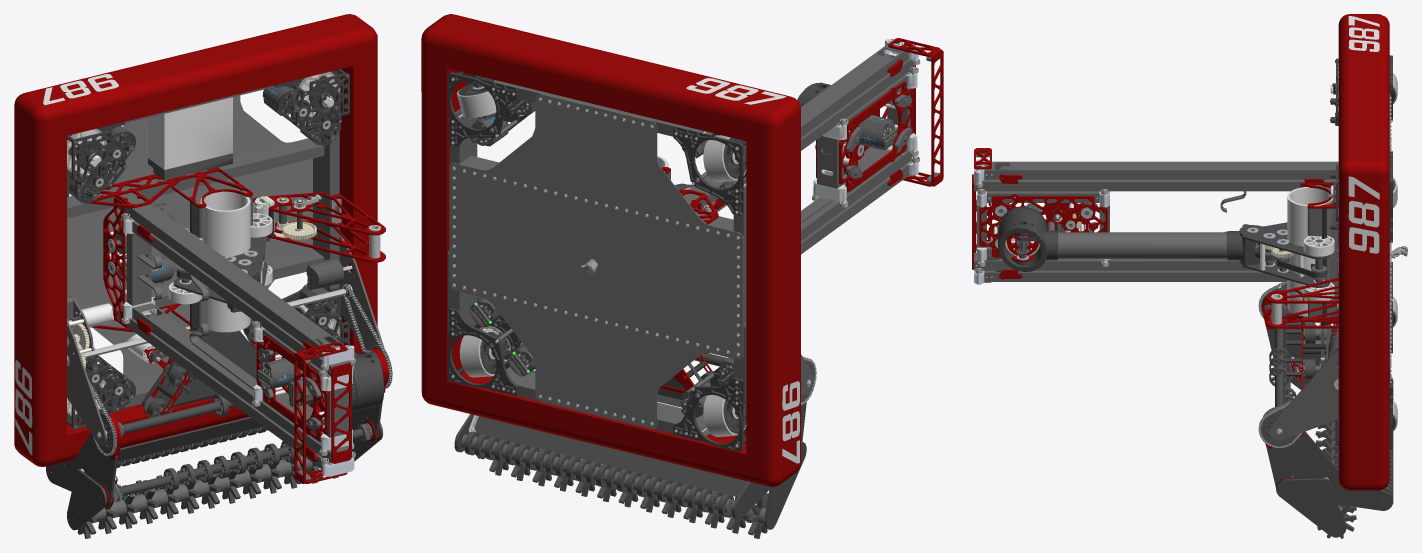
File: frc-987-offseason.glb
3 renders of one model, left to right at view 1: azimuth 30°, elevation 25°; view 2: azimuth 150°, elevation 25°; view 3: azimuth 270°, elevation 25°, orthographic. The views are drawn at different scales.
Visible parts, largest first — view 1: Bumper, Nylon Spacer, Robot Battery, 2025O-11005-Bellypan, Part 19, WCP-1706-001 Rev1, 2" Flex Wheel (30A, 1/2" Wide, 1/2" Hex Stretch Bore), #10-32 BHCS Configurable, 1/2" Round Shaft (12"), Kraken X60 powered by Talon FX (WCP-0940), WCP-0941, 2025O-22013V2-BeltTensionerSpacer3DP (+7 smaller); view 2: 2025O-11005-Bellypan, Bumper, Nylon Spacer, WCP-1706-001 Rev1, 2" Flex Wheel (30A, 1/2" Wide, 1/2" Hex Stretch Bore), Part 19, Robot Battery, WCP-1735 Rev1, #10-32 BHCS Configurable, Socket button head cap screw #10-32 x 0.188, Kraken X60 powered by Talon FX (WCP-0940), 3.5" OD x 3" ID x .25" X-Contact Bearing (TTB-0026) (+1 smaller); view 3: Bumper, Nylon Spacer, Part 19, Robot Battery, 2025O-22013V2-BeltTensionerSpacer3DP, 1/2" Round Shaft (12"), 2" Flex Wheel (30A, 1/2" Wide, 1/2" Hex Stretch Bore), WCP-1706-001 Rev1, #10-32 BHCS Configurable, Socket button head cap screw #10-32 x 0.188, WCP-0941, Kraken X60 powered by Talon FX (WCP-0940) (+1 smaller).
Boxes of the visible parts, x1,y1,x2,y2 form: Bumper: [14, 14, 388, 506]; Nylon Spacer: [67, 85, 384, 481]; Robot Battery: [15, 74, 391, 457]; 2025O-11005-Bellypan: [67, 95, 312, 379]; Part 19: [46, 235, 383, 530]; WCP-1706-001 Rev1: [67, 69, 349, 429]; 2" Flex Wheel (30A, 1/2" Wide, 1/2" Hex Stretch Bore): [70, 197, 338, 538]; #10-32 BHCS Configurable: [69, 74, 372, 525]; 1/2" Round Shaft (12"): [120, 190, 363, 496]; Kraken X60 powered by Talon FX (WCP-0940): [67, 87, 380, 480]; WCP-0941: [78, 196, 309, 363]; 2025O-22013V2-BeltTensionerSpacer3DP: [145, 275, 383, 455]; 2025O-11005-Bellypan: [449, 94, 743, 428]; Bumper: [421, 14, 943, 487]; Nylon Spacer: [447, 43, 939, 436]; WCP-1706-001 Rev1: [447, 72, 746, 451]; 2" Flex Wheel (30A, 1/2" Wide, 1/2" Hex Stretch Bore): [464, 357, 768, 538]; Part 19: [454, 183, 806, 529]; Robot Battery: [469, 78, 917, 463]; WCP-1735 Rev1: [456, 76, 746, 436]; #10-32 BHCS Configurable: [461, 78, 912, 525]; Socket button head cap screw #10-32 x 0.188: [451, 77, 863, 447]; Kraken X60 powered by Talon FX (WCP-0940): [468, 38, 918, 432]; 3.5" OD x 3" ID x .25" X-Contact Bearing (TTB-0026): [813, 74, 917, 201]; Bumper: [972, 14, 1389, 490]; Nylon Spacer: [974, 152, 1338, 440]; Part 19: [1239, 222, 1393, 537]; Robot Battery: [976, 16, 1379, 446]; 2025O-22013V2-BeltTensionerSpacer3DP: [987, 166, 1326, 271]; 1/2" Round Shaft (12"): [1016, 186, 1337, 407]; 2" Flex Wheel (30A, 1/2" Wide, 1/2" Hex Stretch Bore): [1269, 316, 1393, 538]; WCP-1706-001 Rev1: [1331, 55, 1395, 449]; #10-32 BHCS Configurable: [988, 59, 1389, 510]; Socket button head cap screw #10-32 x 0.188: [994, 96, 1392, 434]; WCP-0941: [1303, 235, 1334, 300]; Kraken X60 powered by Talon FX (WCP-0940): [974, 159, 1368, 493].
Bounding box in the file's own units: 0.9017 × 1.08 × 1.08.
